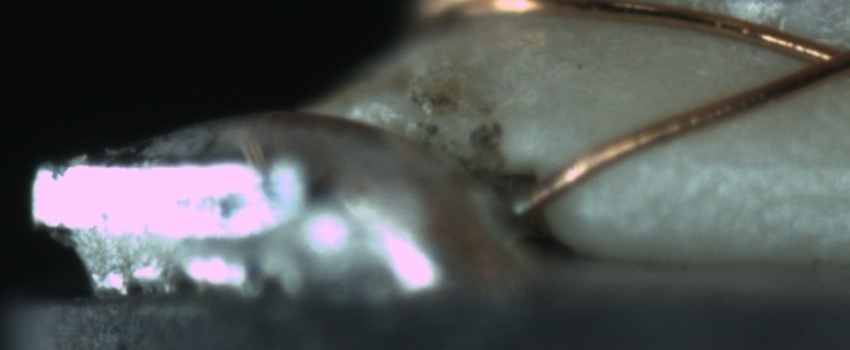CL: (775, 27, 849, 90)
DL: (685, 133, 848, 196)
